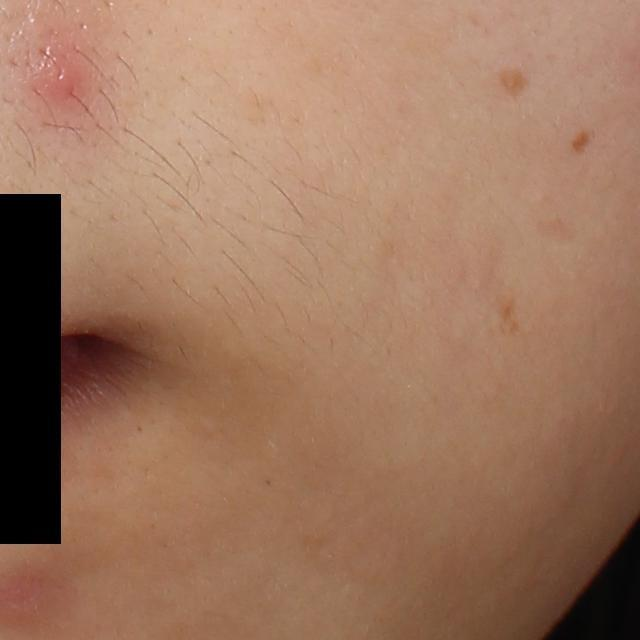nevus: (496, 64, 534, 104), (570, 128, 596, 156)
papule: (16, 34, 102, 120)
